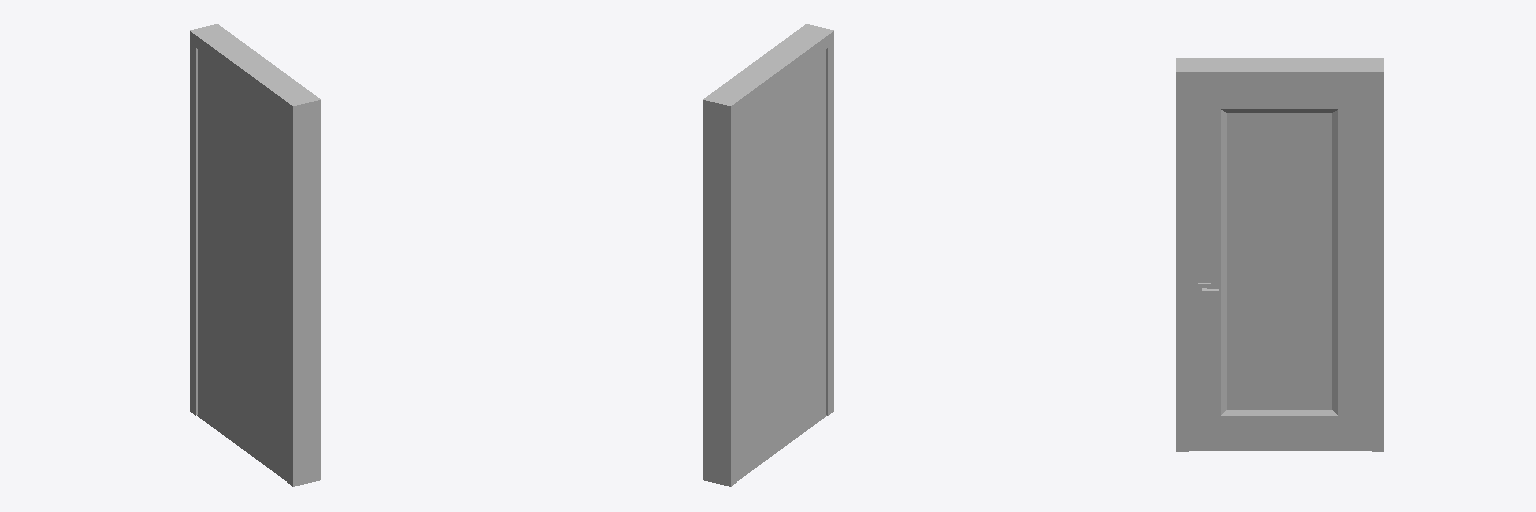
File: doorCity.obj
3 renders of one model, left to right at view 1: azimuth 30°, elevation 25°; view 2: azimuth 150°, elevation 25°; view 3: azimuth 270°, elevation 25°, orthographic.
Parts seen in each view (by area): view 1: Door, Frame; view 2: Door, Frame; view 3: Door, Frame.
Part boxes in pixels (x1,y1,x2,y2): Door: (197, 50, 286, 480); Frame: (190, 24, 320, 486); Door: (737, 50, 826, 480); Frame: (703, 24, 833, 486); Door: (1189, 84, 1371, 450); Frame: (1176, 58, 1383, 451).
Size of the model in its own units: 0.6732 by 8.39 by 4.13.